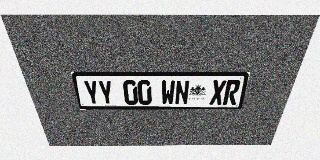0: (122, 80, 138, 105), (137, 80, 152, 105)
N: (175, 80, 190, 105)
R: (223, 80, 241, 105)
W: (161, 80, 175, 105)
X: (209, 80, 227, 105)
Y: (82, 80, 101, 105), (97, 80, 114, 105)
